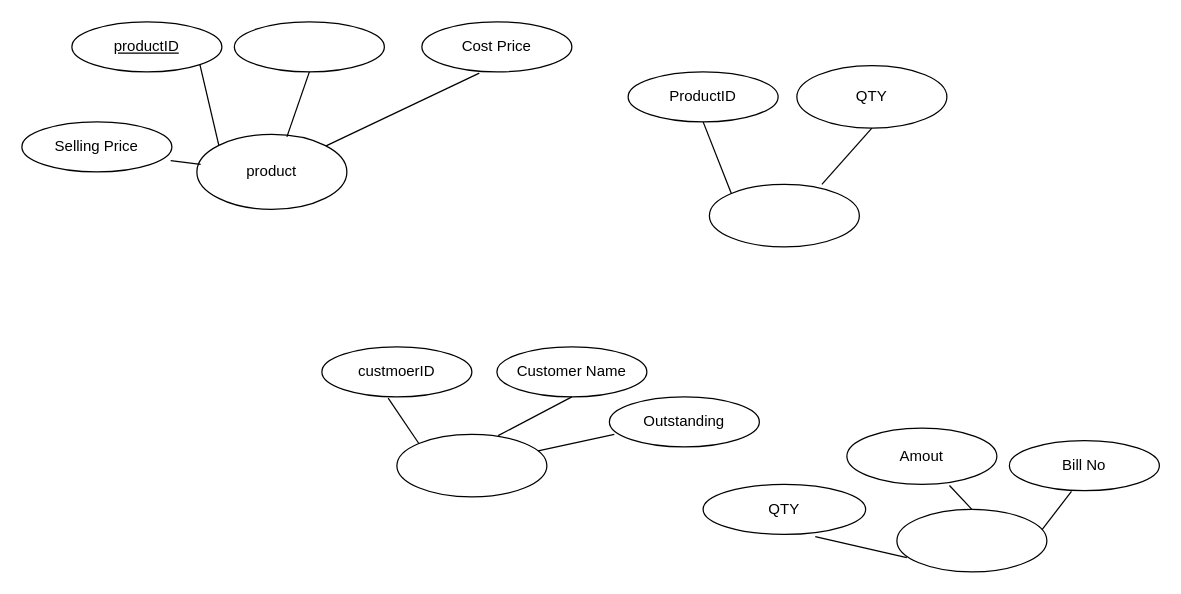
Some shapes in this 1181 by 594 pixel diagram are drawn without their labels. Each missing label, with the centre of its shape:
Bill: the point at 971,540
Custmoer: the point at 471,465
GRN: the point at 783,215
procuct Name: the point at 308,46
